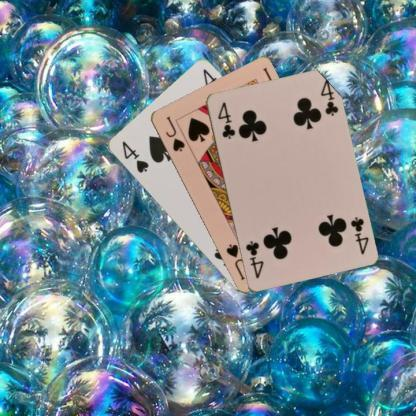4c: (347, 214, 370, 256), (214, 100, 236, 140)
4s: (119, 138, 150, 175)
Js: (162, 113, 186, 153)
